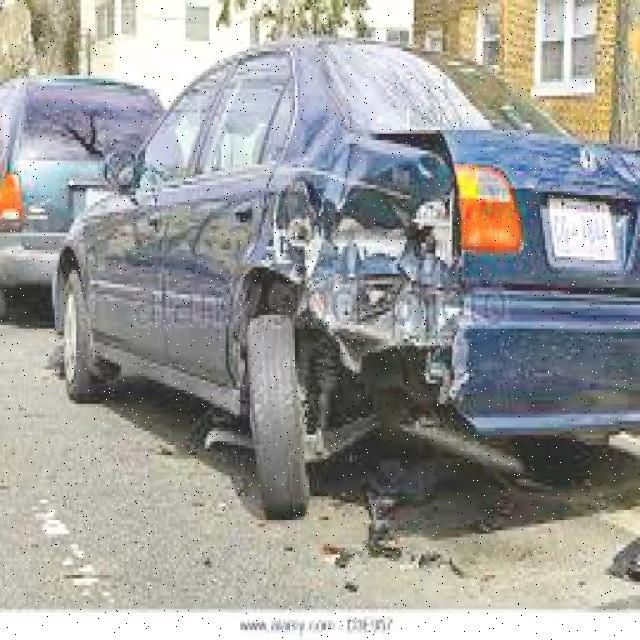car damage: (217, 126, 477, 443)
